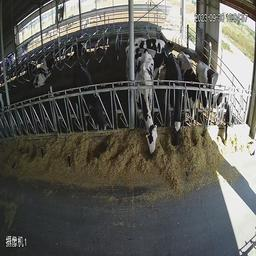cow: (69, 54, 111, 148), (200, 57, 233, 162), (135, 50, 163, 165), (180, 45, 213, 134), (164, 51, 188, 161), (135, 29, 176, 58), (31, 54, 60, 91)
